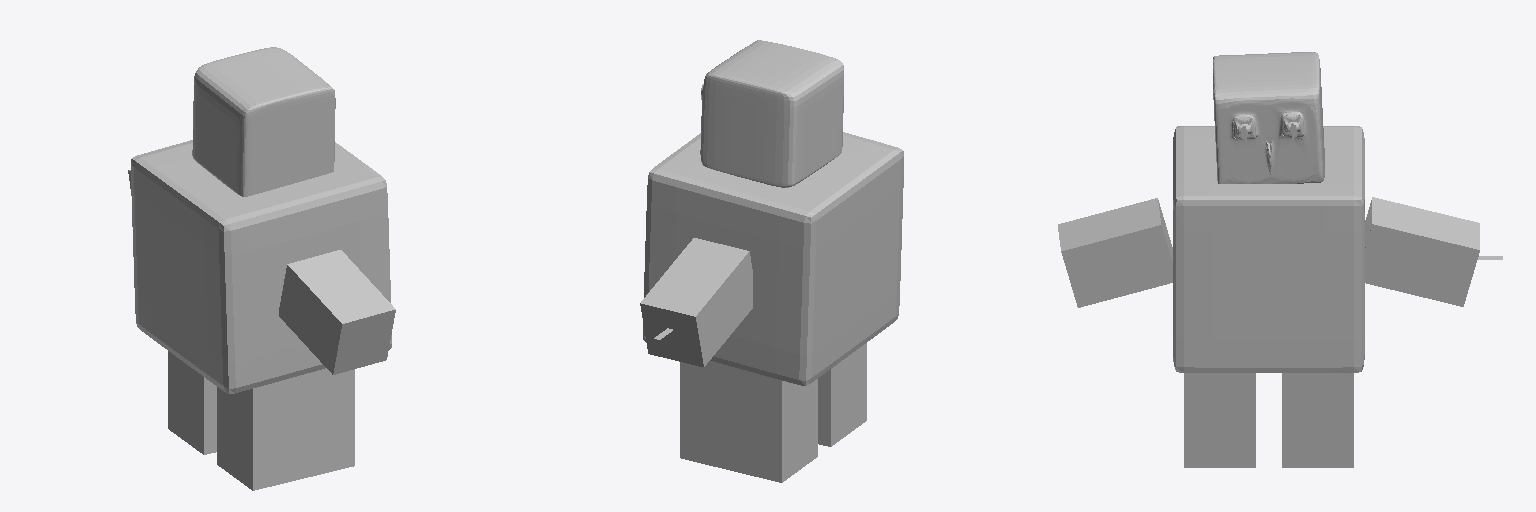
3 views of the same model, side by side, from view 1: azimuth 30°, elevation 25°; view 2: azimuth 150°, elevation 25°; view 3: azimuth 270°, elevation 25° (orthographic).
Parts seen in each view (by area): view 1: Cube_Cube.001, Cube.001_Cube.002, CollisionLL_Cube.003, Cube.005_Cube.007, Cube.003_Cube.004; view 2: Cube_Cube.001, Cube.001_Cube.002, Cube.003_Cube.004, Cube.004_Cube.005, CollisionLL_Cube.003; view 3: Cube_Cube.001, Cube.001_Cube.002, Cube.004_Cube.005, Cube.005_Cube.007, CollisionLL_Cube.003, Cube.003_Cube.004.
Part boxes in pixels (bbox=[...]): Cube_Cube.001: bbox=[131, 140, 391, 393]; Cube.001_Cube.002: bbox=[192, 47, 335, 196]; CollisionLL_Cube.003: bbox=[217, 368, 354, 490]; Cube.005_Cube.007: bbox=[279, 250, 395, 374]; Cube.003_Cube.004: bbox=[168, 351, 216, 454]; Cube_Cube.001: bbox=[643, 132, 903, 385]; Cube.001_Cube.002: bbox=[700, 40, 843, 187]; Cube.003_Cube.004: bbox=[680, 361, 817, 482]; Cube.004_Cube.005: bbox=[640, 238, 752, 366]; CollisionLL_Cube.003: bbox=[818, 343, 866, 446]; Cube_Cube.001: bbox=[1173, 126, 1364, 372]; Cube.001_Cube.002: bbox=[1213, 52, 1324, 183]; Cube.004_Cube.005: bbox=[1365, 197, 1479, 306]; Cube.005_Cube.007: bbox=[1058, 198, 1172, 307]; CollisionLL_Cube.003: bbox=[1184, 373, 1255, 467]; Cube.003_Cube.004: bbox=[1282, 373, 1353, 467].
Bounding box in the file's own units: 1.5 × 3.14 × 3.37.